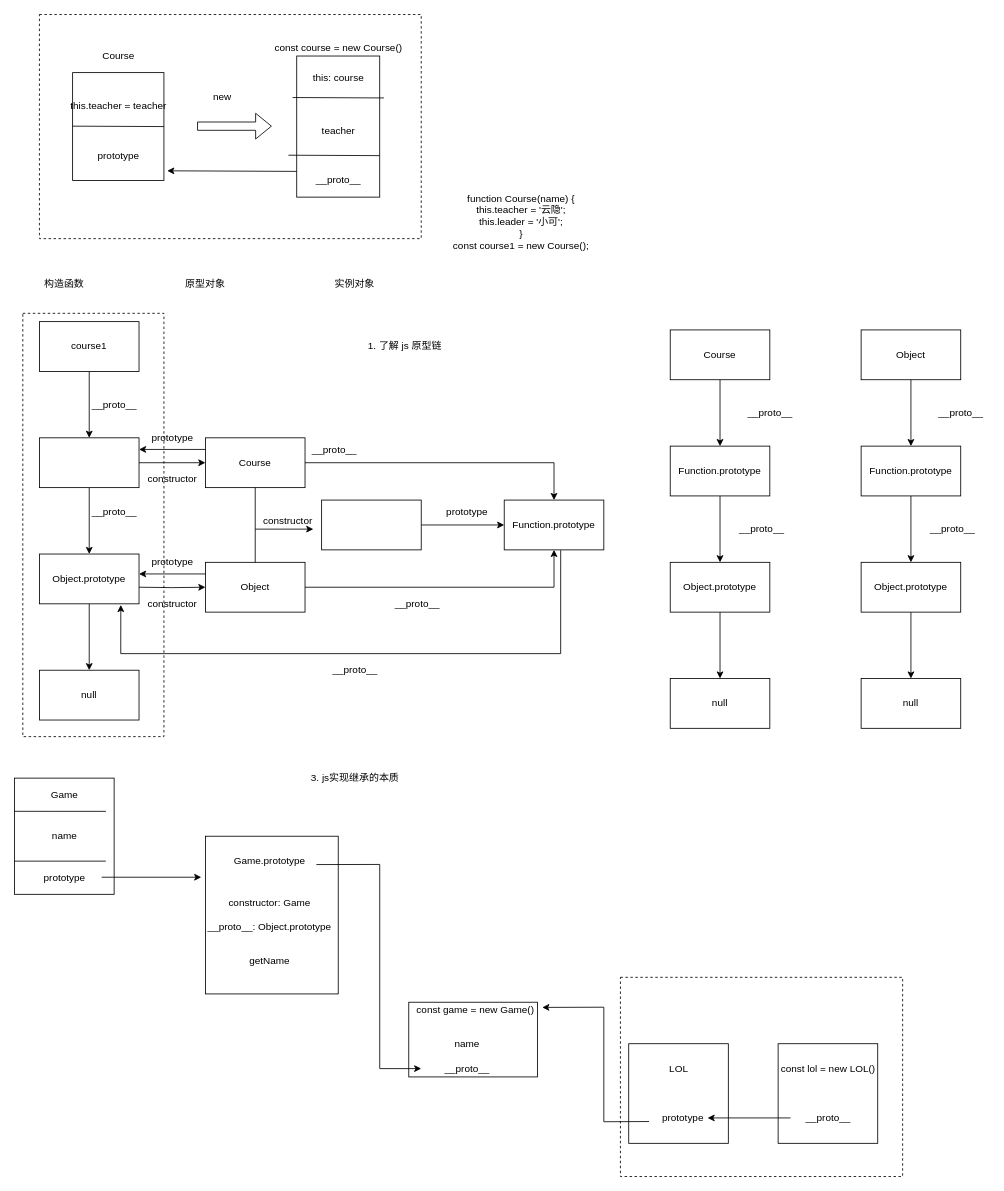
This 1004x1191 diagram has some shape labels left out. The centre of each missing label's shape, as x and y in pixels:
Course.prototype: the point at 89,462
Function: the point at 371,524
